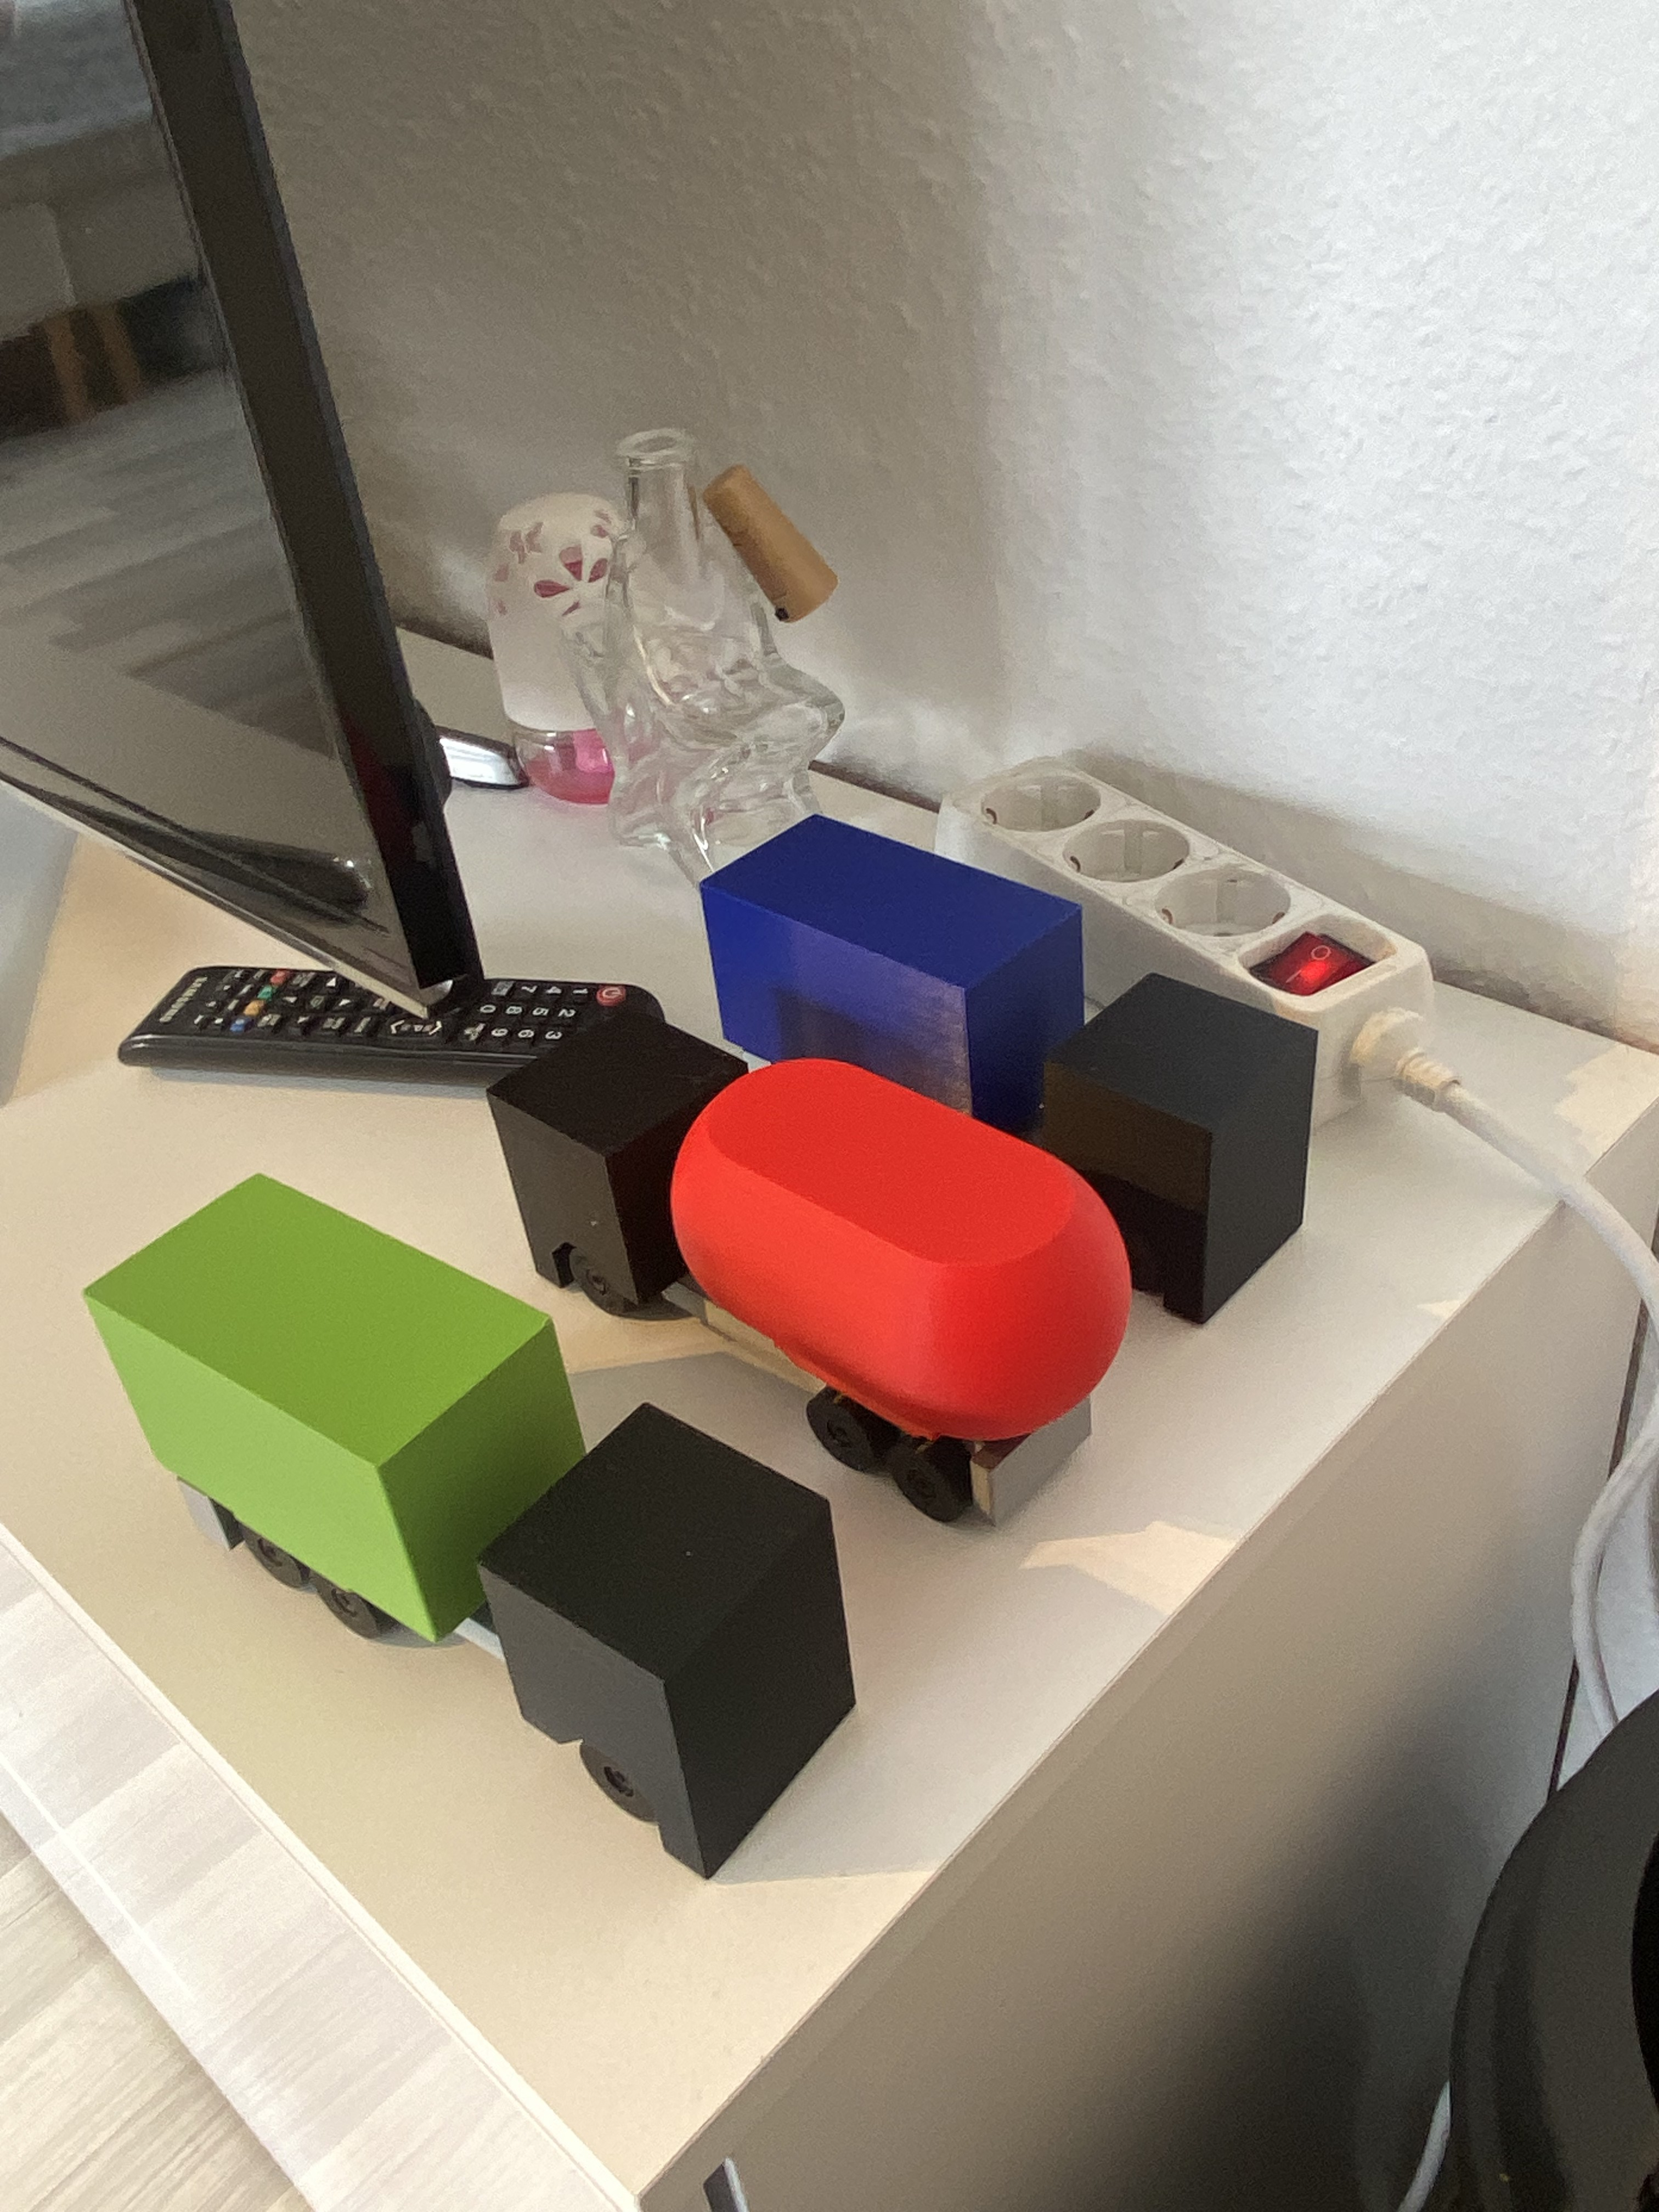blue_truck: (662, 859, 1361, 1193)
green_truck: (289, 1052, 687, 1923)
red_truck: (464, 1047, 1169, 1400)
